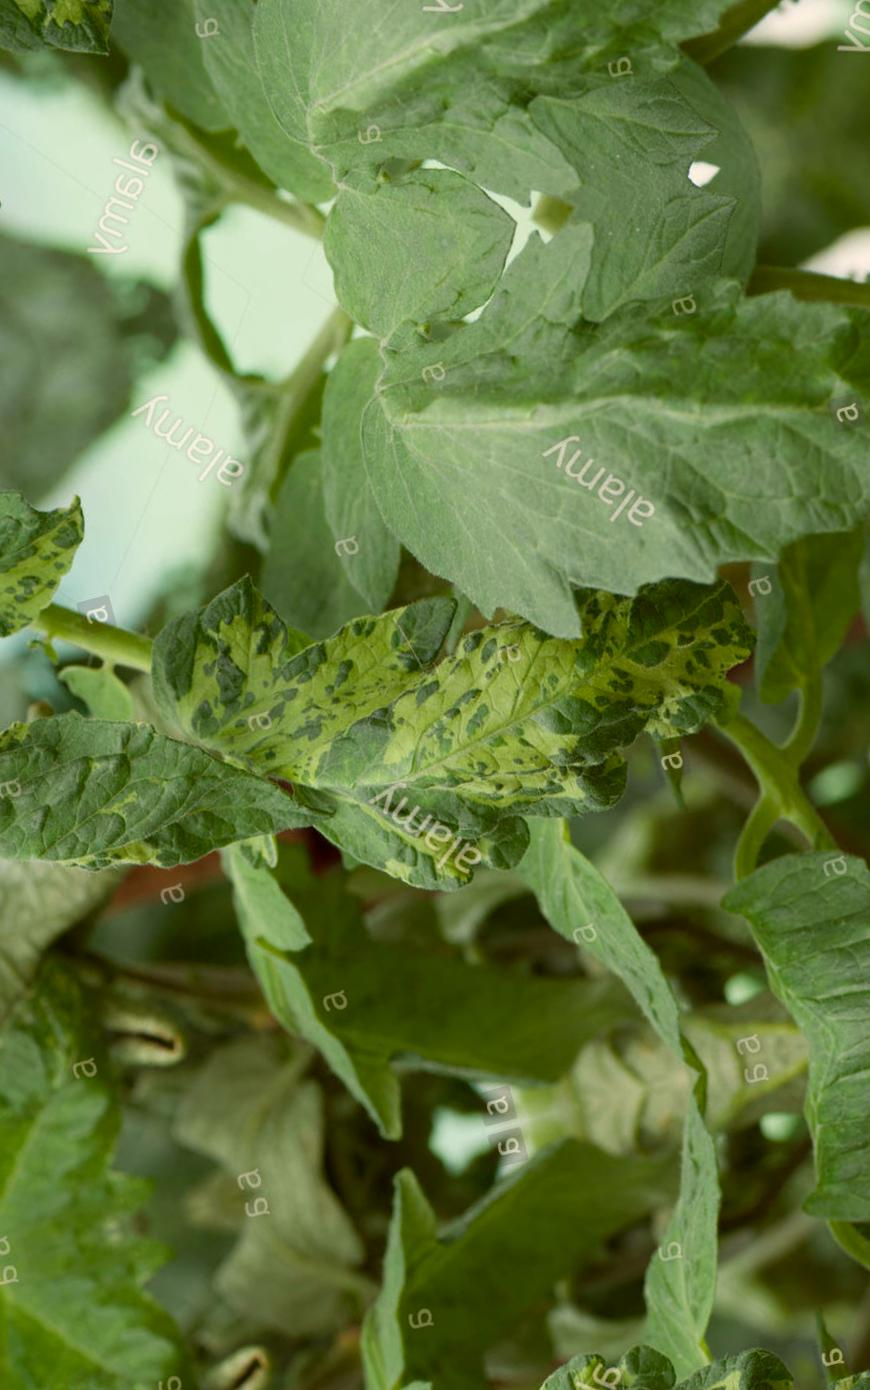Tomato leaf mosaic virus: (87, 483, 804, 962), (296, 166, 870, 691), (0, 526, 323, 995), (0, 450, 135, 685)
